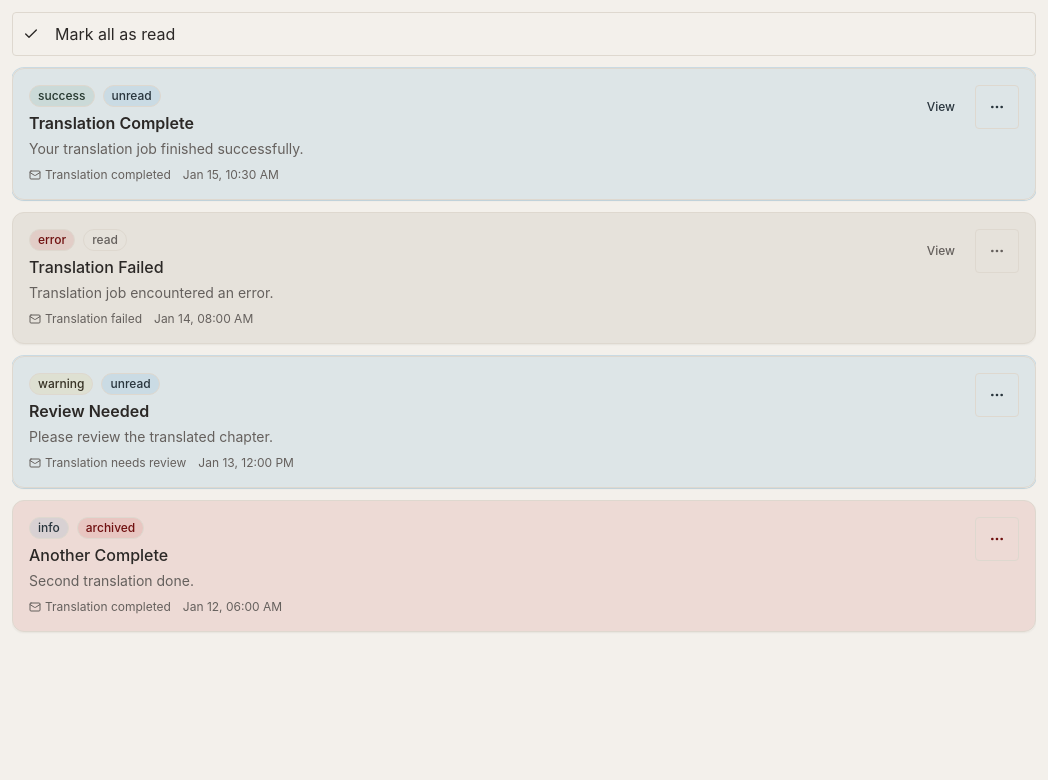
Test: NotificationList › expands dropdown on More button click and closes on backdrop click
The width and height of the screenshot is (1048, 780).
Click the 1st button named "more actions": click(997, 107) [975,85,1019,129]
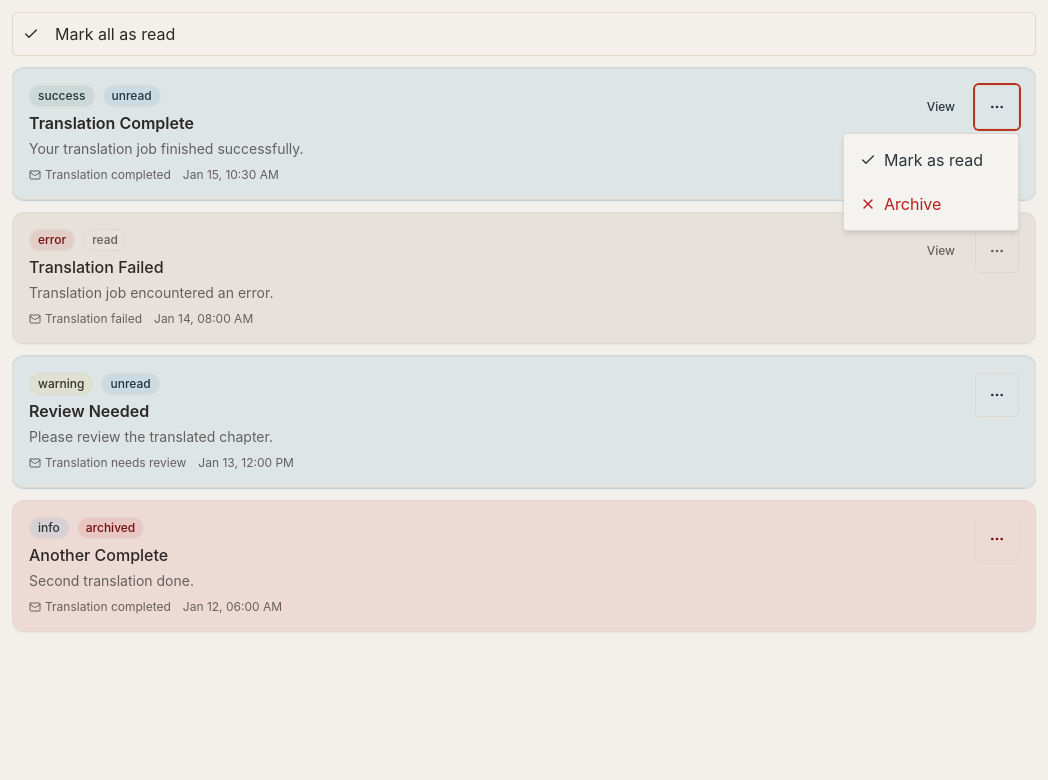
Expected: the button "Mark as read" is shown, [848,138,1014,182]
Expected: the button "Archive" is shown, [848,182,1014,226]
Click the element with class "z-10": click(524, 396) [12,12,1036,779]
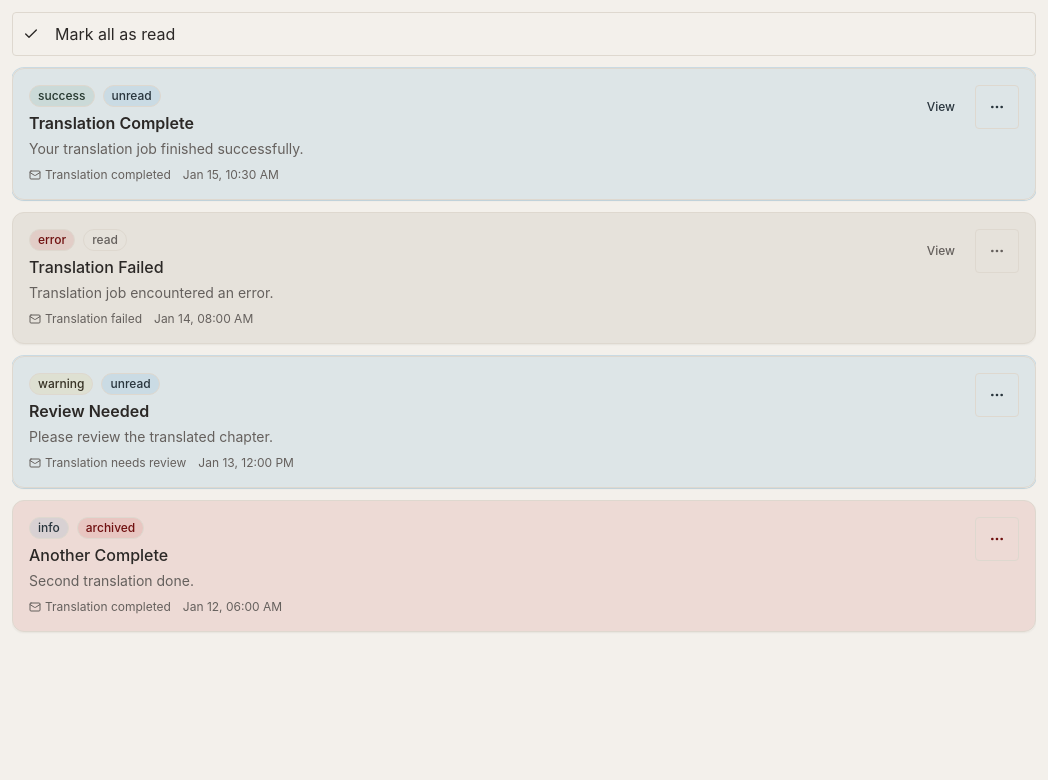
Expected: the button "Mark as read" is gone
